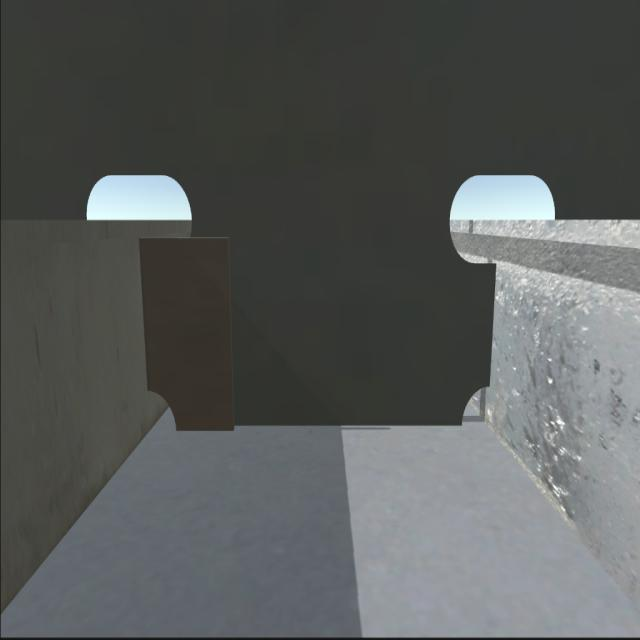fillet_hole: (149, 389, 181, 434), (457, 386, 492, 427)
fillet_yong_jeop_jang: (176, 417, 462, 438)
longi_yong_jeop_jang: (134, 239, 156, 391), (483, 258, 498, 389)
plate_CP01: (138, 234, 236, 434)
